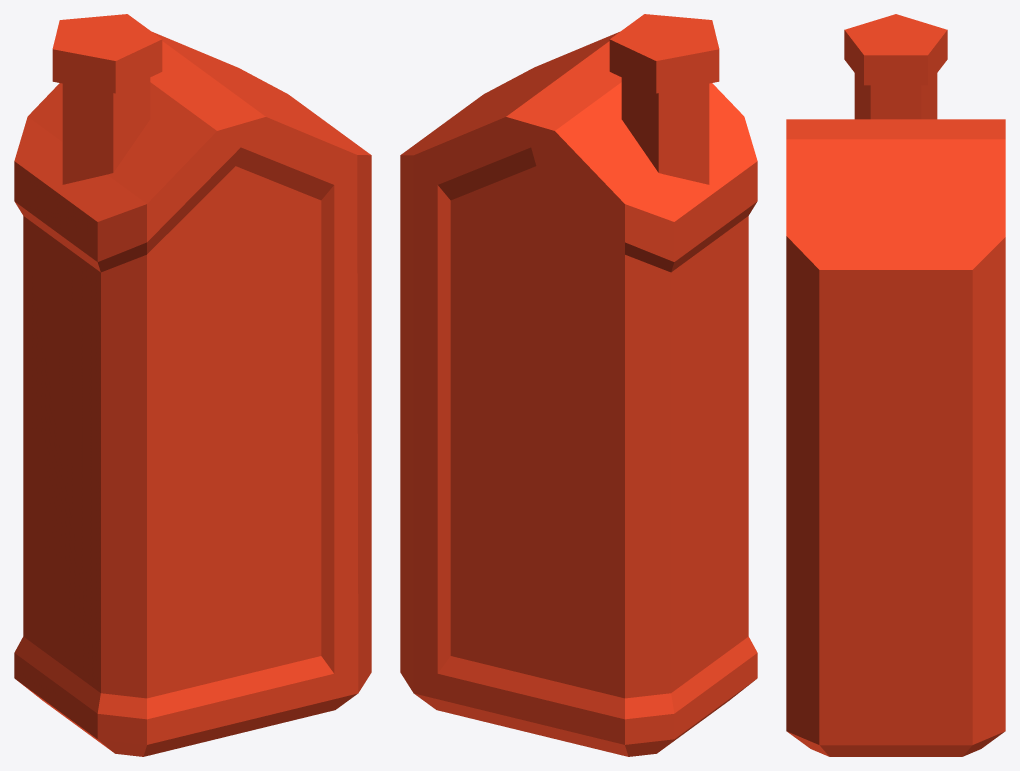
The model's file is SM_Oil_City.fbx.
3 views of the same model, side by side, from view 1: azimuth 30°, elevation 25°; view 2: azimuth 150°, elevation 25°; view 3: azimuth 270°, elevation 25° (orthographic). The views are drawn at different scales.
Visible parts, largest first — view 1: SM_Oil_City; view 2: SM_Oil_City; view 3: SM_Oil_City.
Boxes of the visible parts, <box> form: SM_Oil_City: <box>14,14,371,756</box>; SM_Oil_City: <box>400,14,757,756</box>; SM_Oil_City: <box>786,14,1005,756</box>.
Bounding box in the file's own units: 0.1249 × 0.2945 × 0.0932.
